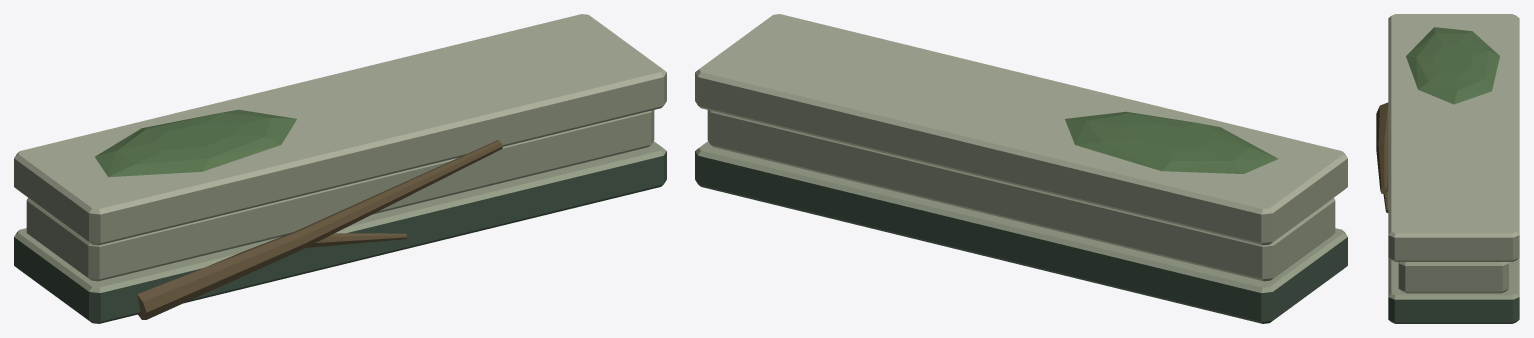
Rendered from wall-low.glb.
The picture shows the model from 3 angles, left to right: view 1: azimuth 30°, elevation 25°; view 2: azimuth 150°, elevation 25°; view 3: azimuth 270°, elevation 25°; orthographic projection. The views are drawn at different scales.
Parts seen in each view (by area): view 1: wall-low__body; view 2: wall-low__body; view 3: wall-low__body.
Part boxes in pixels (x1,y1,x2,y2): wall-low__body: [14, 14, 666, 323]; wall-low__body: [695, 14, 1347, 323]; wall-low__body: [1376, 14, 1519, 323].
Size of the model in its own units: 2 by 0.4293 by 0.545.
